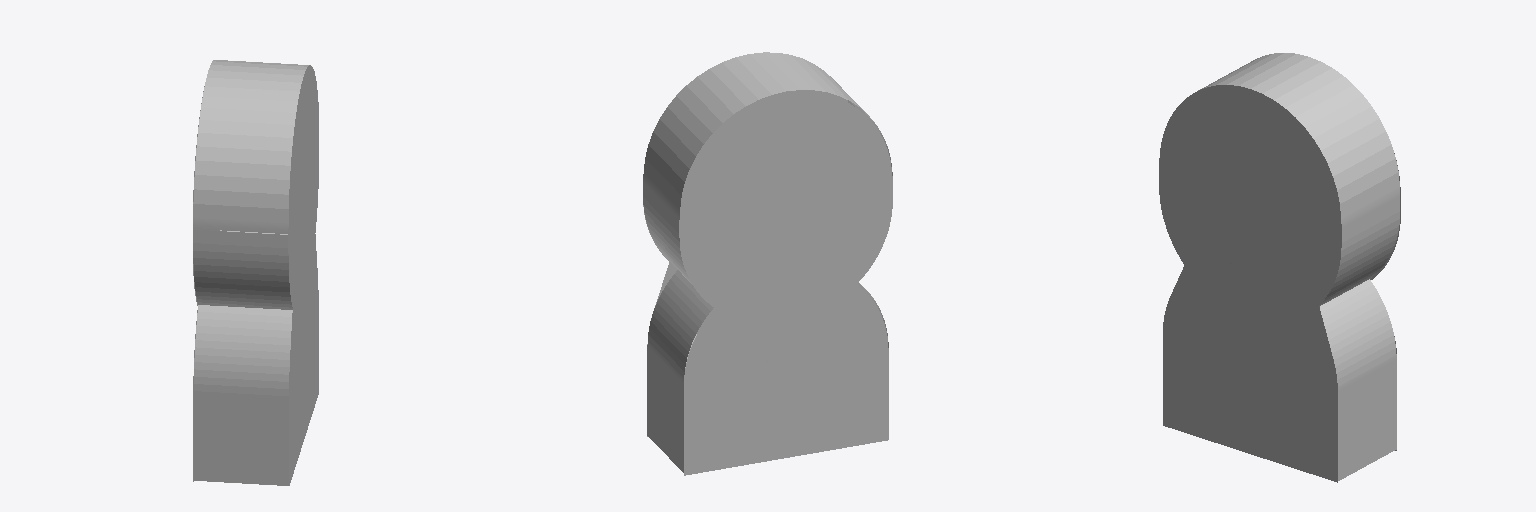
The model's file is svgImgae.obj.
The picture shows the model from 3 angles: view 1: azimuth 30°, elevation 25°; view 2: azimuth 150°, elevation 25°; view 3: azimuth 270°, elevation 25°; orthographic projection.
Parts seen in each view (by area): view 1: Curve.017_CUCurve.017, Curve.012, Curve.008, Curve.002, Curve.006, Curve.007; view 2: Curve.022_Curve.021, Curve.017_CUCurve.017, Curve.026_Curve.025, Curve.032_Curve.031, Curve.027_Curve.026, Curve.028_Curve.027, Curve.029_Curve.028, Curve.034_Curve.033, Curve.019_Curve.018, Curve.018_Curve.017, Curve.030_Curve.029; view 3: Curve.017_CUCurve.017, Curve.012, Curve.008, Curve.002, Curve.006, Curve.007, Curve.005, Curve, Curve.016, Curve.015.
Boxes of the visible parts, x1=… form: Curve.017_CUCurve.017: x1=193, y1=60, x2=318, y2=485; Curve.012: x1=288, y1=66, x2=318, y2=315; Curve.008: x1=290, y1=112, x2=317, y2=266; Curve.002: x1=289, y1=356, x2=318, y2=485; Curve.006: x1=305, y1=248, x2=318, y2=383; Curve.007: x1=289, y1=309, x2=302, y2=472; Curve.022_Curve.021: x1=679, y1=92, x2=892, y2=323; Curve.017_CUCurve.017: x1=643, y1=52, x2=892, y2=472; Curve.026_Curve.025: x1=692, y1=141, x2=880, y2=257; Curve.032_Curve.031: x1=684, y1=388, x2=888, y2=475; Curve.027_Curve.026: x1=796, y1=284, x2=888, y2=429; Curve.028_Curve.027: x1=684, y1=309, x2=776, y2=464; Curve.029_Curve.028: x1=760, y1=356, x2=813, y2=401; Curve.034_Curve.033: x1=746, y1=321, x2=825, y2=380; Curve.019_Curve.018: x1=719, y1=441, x2=777, y2=469; Curve.018_Curve.017: x1=795, y1=428, x2=852, y2=455; Curve.030_Curve.029: x1=730, y1=378, x2=759, y2=406; Curve.017_CUCurve.017: x1=1159, y1=53, x2=1399, y2=480; Curve.012: x1=1159, y1=86, x2=1341, y2=322; Curve.008: x1=1169, y1=133, x2=1330, y2=263; Curve.002: x1=1163, y1=378, x2=1337, y2=482; Curve.006: x1=1258, y1=313, x2=1337, y2=471; Curve.007: x1=1163, y1=273, x2=1241, y2=414; Curve.005: x1=1226, y1=351, x2=1272, y2=400; Curve: x1=1216, y1=316, x2=1284, y2=380; Curve.016: x1=1193, y1=419, x2=1242, y2=451; Curve.015: x1=1257, y1=440, x2=1307, y2=472.
Size of the model in its own units: 1.77 by 3.29 by 1.97.